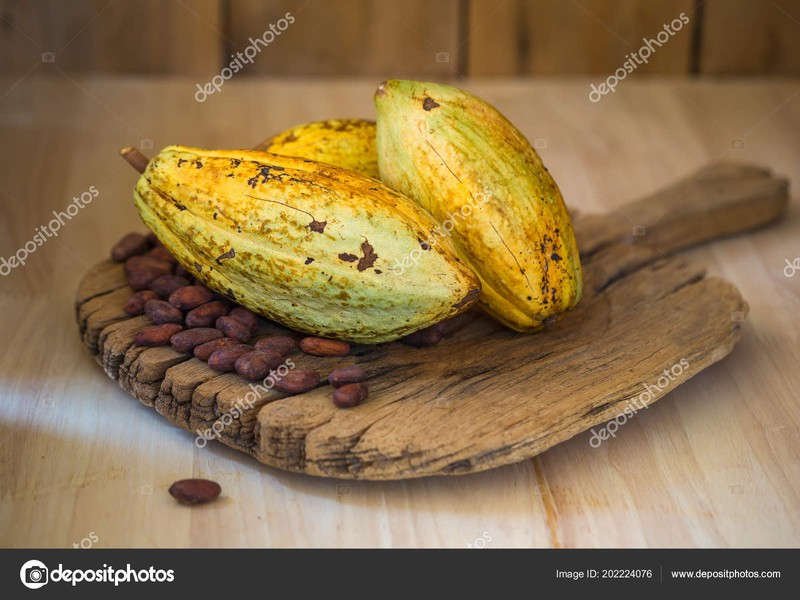Cacaopod: (119, 141, 485, 346), (372, 77, 584, 337)
